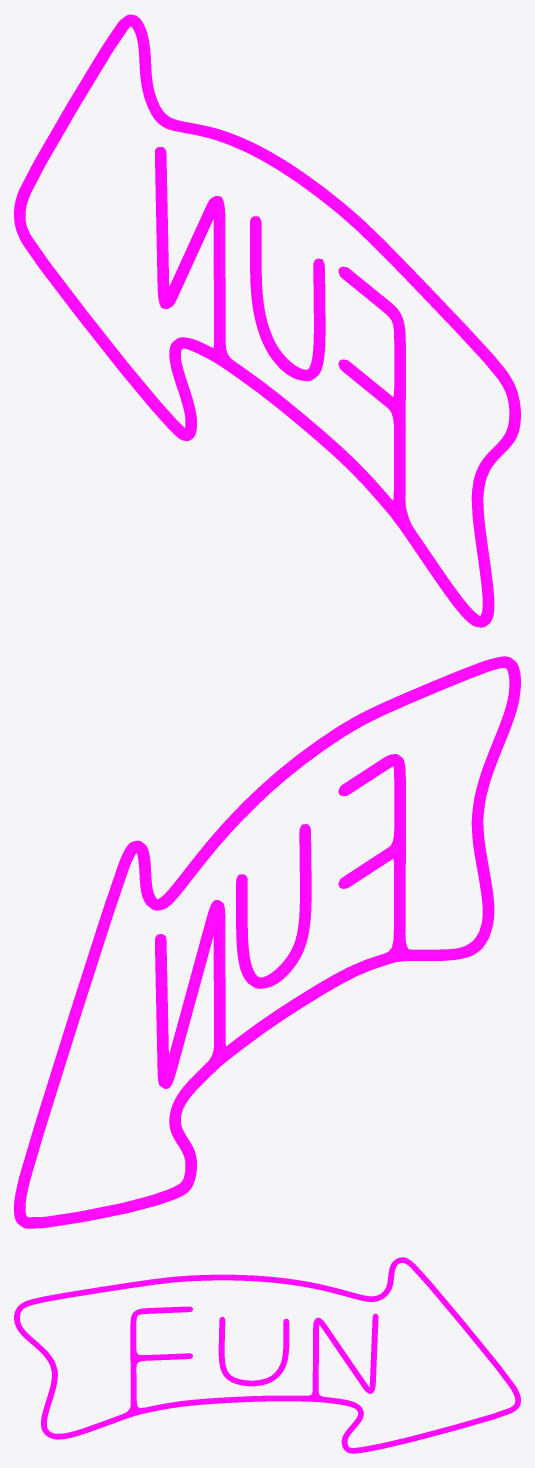
The model's file is fun.fbx.
The picture shows the model from 3 angles, top to bottom: view 1: azimuth 30°, elevation 25°; view 2: azimuth 150°, elevation 25°; view 3: azimuth 270°, elevation 25°; orthographic projection. The views are drawn at different scales.
Visible parts, largest first — view 1: fun_neon; view 2: fun_neon; view 3: fun_neon.
Part boxes in pixels (x1,y1,x2,y2): fun_neon: (14, 14, 520, 627); fun_neon: (14, 656, 520, 1228); fun_neon: (14, 1257, 520, 1453).
Bounding box in the file's own units: 8.8 × 187 × 439.
